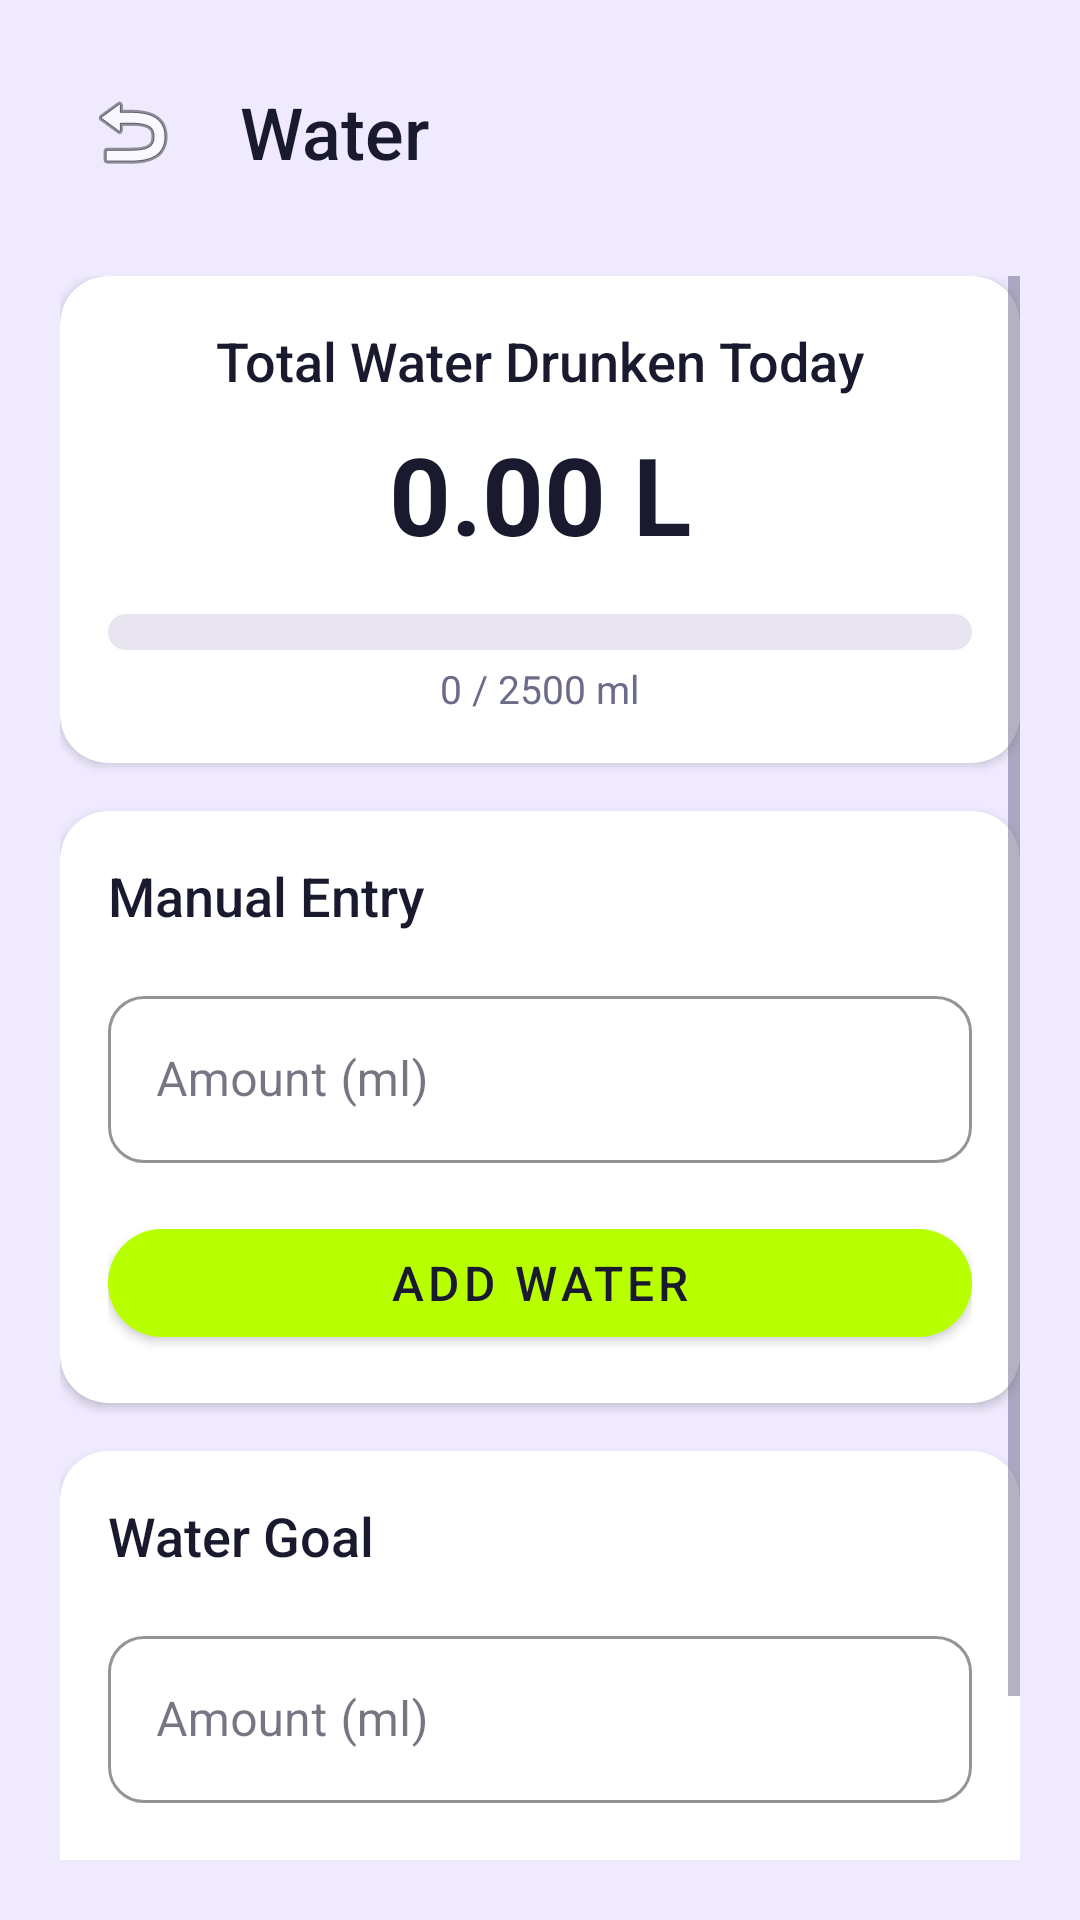

Named icons in this screenshot (1080px×1920px) and their centers, [x,y]:
Back: [133,132]
